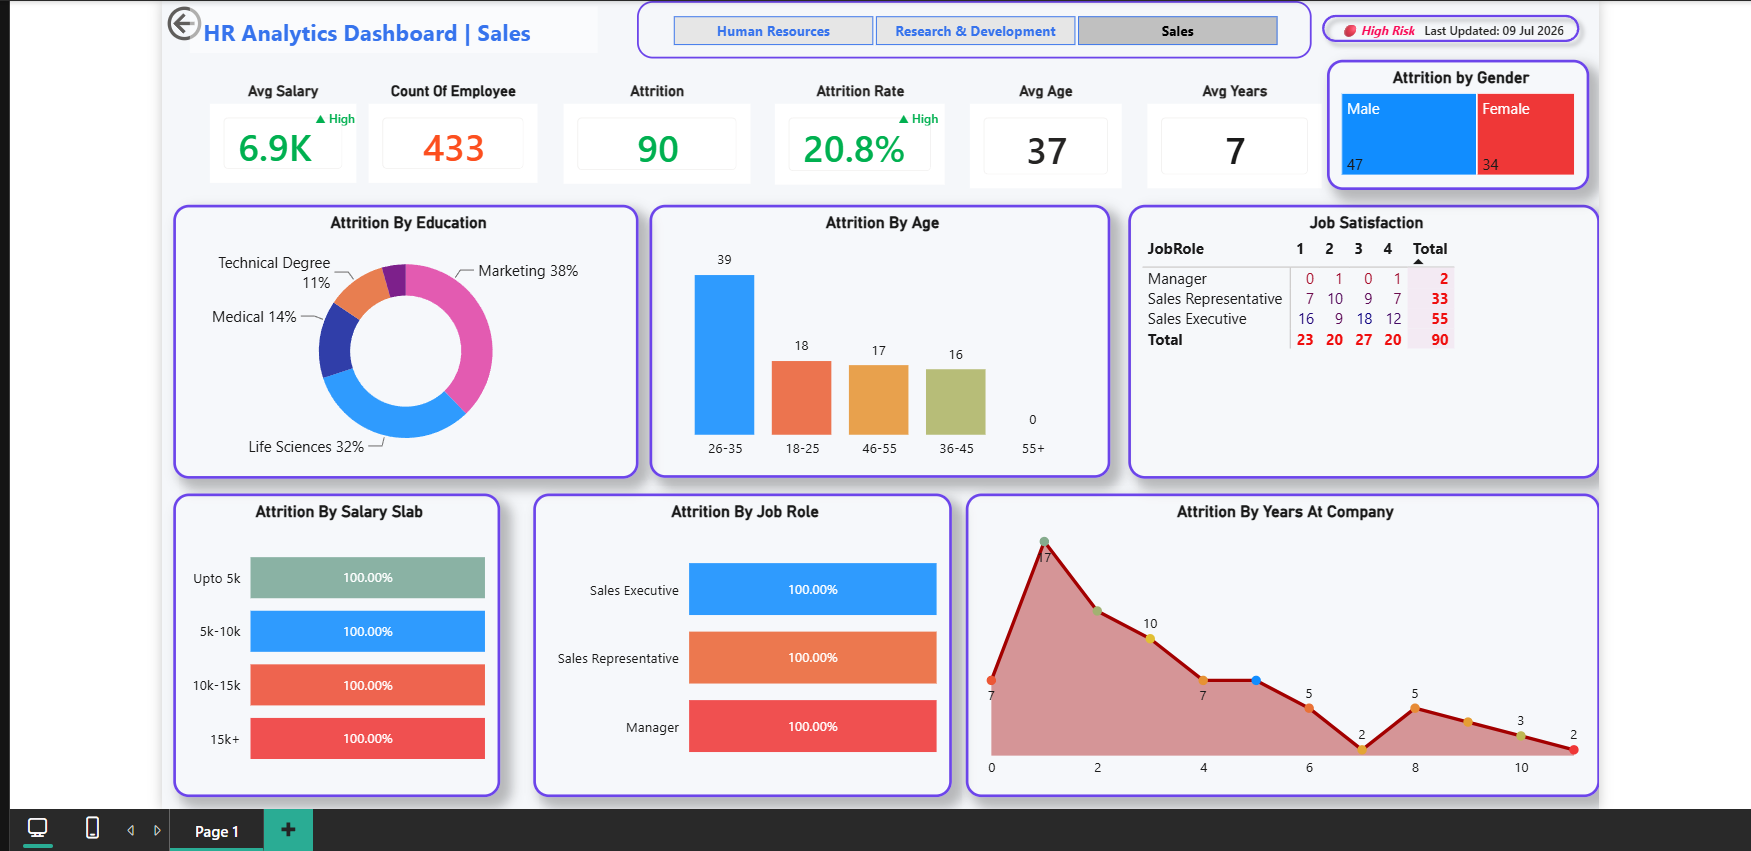

This screenshot's page, from the dashboard's own definition file:
{"tool":"powerbi","page":{"name":"Page 1","canvas":[1280,720],"ordinal":0},"visuals":[{"type":"cardVisual","title":"Count Of Employee ","fields":{"Data":["CountNonNull(HR_Analytics.EmpID)"]},"box":[179.8,61.7,209.9,108.4],"z":0},{"type":"cardVisual","title":"Attrition","fields":{"Data":["Sum(HR_Analytics.AttritionCount)"]},"box":[358.1,63.1,182.5,107],"z":1000},{"type":"cardVisual","title":"Attrition Rate ","fields":{"Data":["HR_Analytics.AttritionRate"]},"box":[521.4,63.1,203.1,107],"z":2000},{"type":"cardVisual","title":"Avg Age","fields":{"Data":["Avg(HR_Analytics.Age)"]},"box":[709.4,63.1,135.8,107],"z":3000},{"type":"cardVisual","title":"Avg Salary","fields":{"Data":["Avg(HR_Analytics.MonthlyIncome)"]},"box":[15.1,63.1,175.6,107],"z":4000},{"type":"cardVisual","title":"Avg Years ","fields":{"Data":["Avg(HR_Analytics.YearsAtCompany)"]},"box":[832.9,63.1,199,107],"z":5000},{"type":"donutChart","title":"Attrition By Education","fields":{"Category":["HR_Analytics.EducationField"],"Y":["Sum(HR_Analytics.AttritionCount)"]},"box":[9.6,181.1,414.4,244.3],"z":6000},{"type":"pivotTable","title":"Job Satisfaction ","fields":{"Rows":["HR_Analytics.JobRole"],"Values":["Sum(HR_Analytics.AttritionCount)"],"Columns":["HR_Analytics.JobSatisfaction"]},"box":[860.4,181.1,419.9,244.3],"z":7000},{"type":"columnChart","title":"Attrition By Age","fields":{"Category":["HR_Analytics.AgeGroup"],"Y":["Sum(HR_Analytics.AttritionCount)"]},"box":[434.9,181.4,410.5,244.2],"z":8000},{"type":"hundredPercentStackedBarChart","title":"Attrition By Salary Slab","fields":{"Category":["HR_Analytics.SalarySlab"],"Y":["Sum(HR_Analytics.AttritionCount)"]},"box":[9.6,439.1,290.9,270.3],"z":9000},{"type":"hundredPercentStackedBarChart","title":"Attrition By Job Role","fields":{"Category":["HR_Analytics.JobRole"],"Y":["Sum(HR_Analytics.AttritionCount)"]},"box":[314.2,439.1,373.2,270.3],"z":10000},{"type":"areaChart","title":"Attrition By Years At Company","fields":{"Category":["HR_Analytics.YearsAtCompany"],"Y":["Sum(HR_Analytics.AttritionCount)"]},"box":[724.5,439.1,555.7,270.3],"z":11000},{"type":"treemap","title":"Attrition by Age","fields":{"Group":["HR_Analytics.Gender"],"Values":["Sum(HR_Analytics.AttritionCount)"]},"box":[1082.7,0,188,170.2],"z":12000},{"type":"slicer","fields":{"Values":["HR_Analytics.Department"]},"box":[399.3,0,671,48],"z":13000},{"type":"textbox","box":[9.6,0,380.1,48],"z":14000}]}

Visuals, with their boxes in screenshot pixels (x1, y1, x2, y2):
"Count Of Employee " cardVisual: BBox(358, 79, 594, 201)
"Attrition" cardVisual: BBox(558, 80, 764, 201)
"Attrition Rate " cardVisual: BBox(742, 80, 971, 201)
"Avg Age" cardVisual: BBox(954, 80, 1107, 201)
"Avg Salary" cardVisual: BBox(172, 80, 370, 201)
"Avg Years " cardVisual: BBox(1093, 80, 1318, 201)
"Attrition By Education" donutChart: BBox(166, 213, 633, 488)
"Job Satisfaction " pivotTable: BBox(1124, 213, 1597, 488)
"Attrition By Age" columnChart: BBox(645, 213, 1107, 489)
"Attrition By Salary Slab" hundredPercentStackedBarChart: BBox(166, 504, 494, 808)
"Attrition By Job Role" hundredPercentStackedBarChart: BBox(509, 504, 929, 808)
"Attrition By Years At Company" areaChart: BBox(971, 504, 1597, 808)
"Attrition by Age" treemap: BBox(1375, 9, 1587, 201)
slicer - HR_Analytics.Department: BBox(605, 9, 1361, 63)
textbox: BBox(166, 9, 594, 63)
